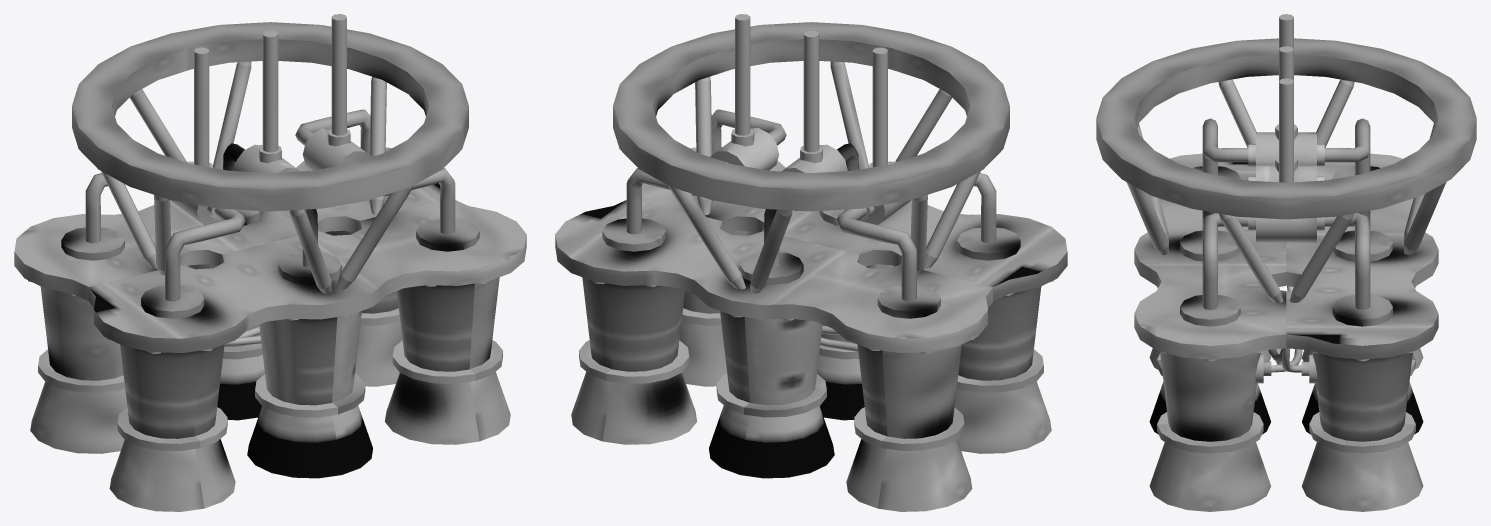
The model's file is mpdt.fbx.
3 views of the same model, side by side, from view 1: azimuth 30°, elevation 25°; view 2: azimuth 150°, elevation 25°; view 3: azimuth 270°, elevation 25° (orthographic). The views are drawn at different scales.
Parts seen in each view (by area): view 1: mesh; view 2: mesh; view 3: mesh.
Part boxes in pixels (x1,y1,x2,y2): mesh: [14, 14, 526, 511]; mesh: [555, 14, 1067, 511]; mesh: [1096, 14, 1476, 511].
Bounding box in the file's own units: 0.75 × 0.675 × 0.625.
